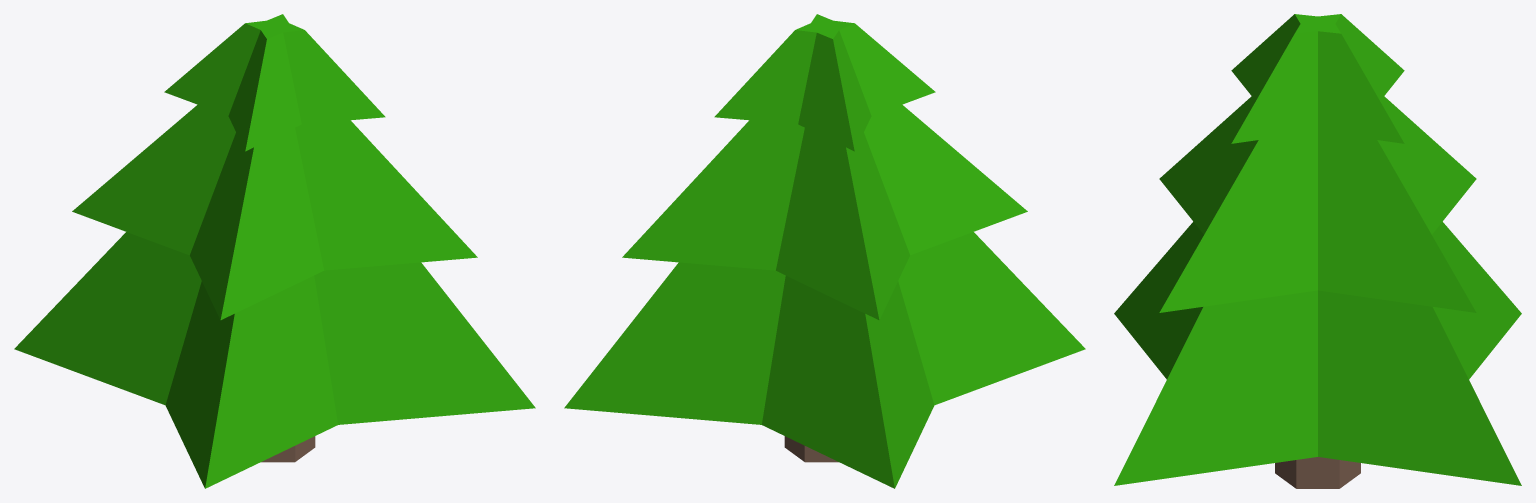
The model's file is Tree.fbx.
3 views of the same model, side by side, from view 1: azimuth 30°, elevation 25°; view 2: azimuth 150°, elevation 25°; view 3: azimuth 270°, elevation 25° (orthographic). The views are drawn at different scales.
Parts seen in each view (by area): view 1: Cube.017, Cube.018, Cube.019, Cylinder.003; view 2: Cube.017, Cube.018, Cube.019, Cylinder.003; view 3: Cube.017, Cube.018, Cube.019, Cylinder.003.
Part boxes in pixels (bbox=[...]): Cube.017: bbox=[14, 232, 535, 488]; Cube.018: bbox=[72, 104, 477, 320]; Cube.019: bbox=[164, 14, 385, 151]; Cylinder.003: bbox=[261, 436, 315, 462]; Cube.017: bbox=[564, 232, 1085, 488]; Cube.018: bbox=[622, 104, 1027, 320]; Cube.019: bbox=[714, 14, 935, 151]; Cylinder.003: bbox=[784, 436, 838, 462]; Cube.017: bbox=[1114, 221, 1521, 485]; Cube.018: bbox=[1159, 96, 1476, 312]; Cube.019: bbox=[1231, 14, 1404, 143]; Cylinder.003: bbox=[1275, 457, 1360, 488].
Size of the model in its own units: 81.94 by 99.57 by 81.94.
